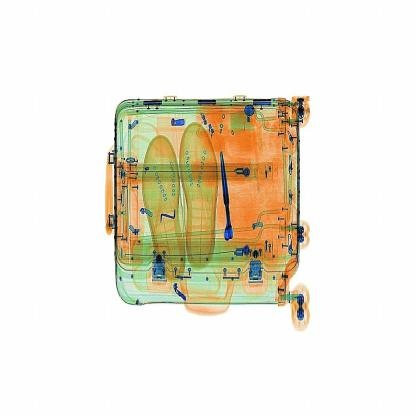gun: (208, 142, 240, 246)
